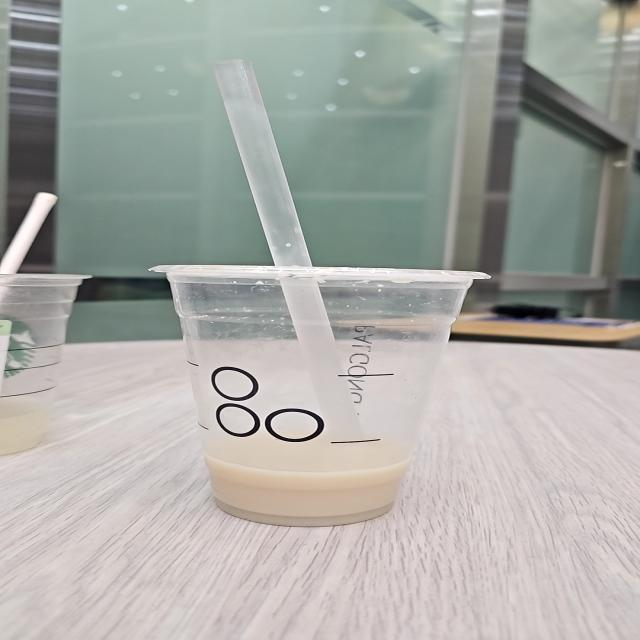cup: (132, 245, 457, 562)
